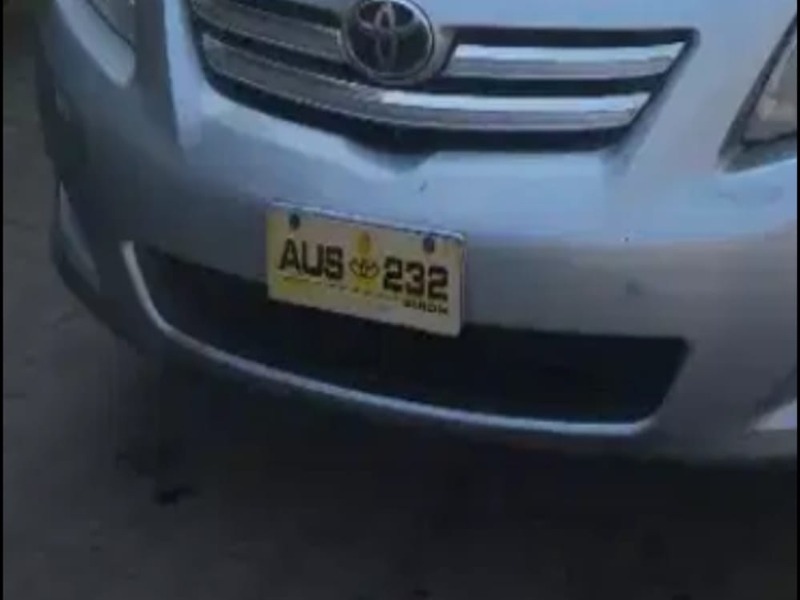License Plate: (257, 195, 471, 341)
